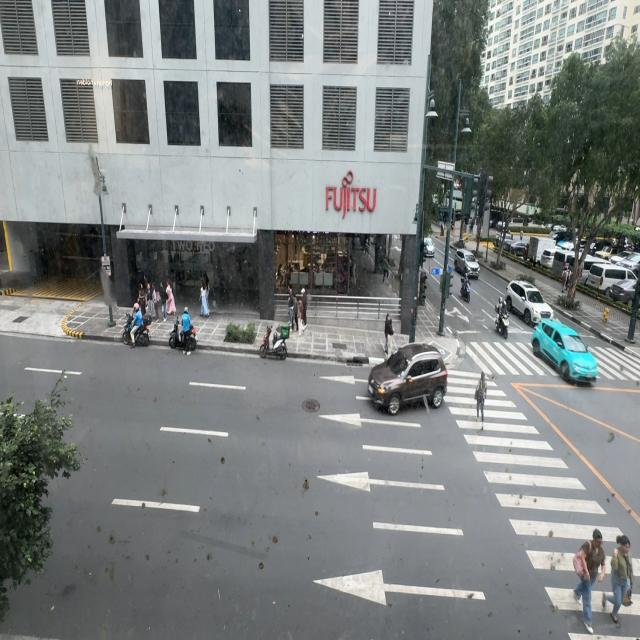crossing: (569, 524, 608, 640), (603, 537, 634, 625), (472, 373, 488, 437)
pedestrain: (382, 310, 393, 353), (298, 288, 308, 334), (200, 280, 210, 318), (288, 285, 296, 332)
